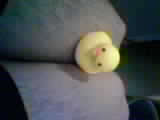duck: (74, 25, 131, 87)
